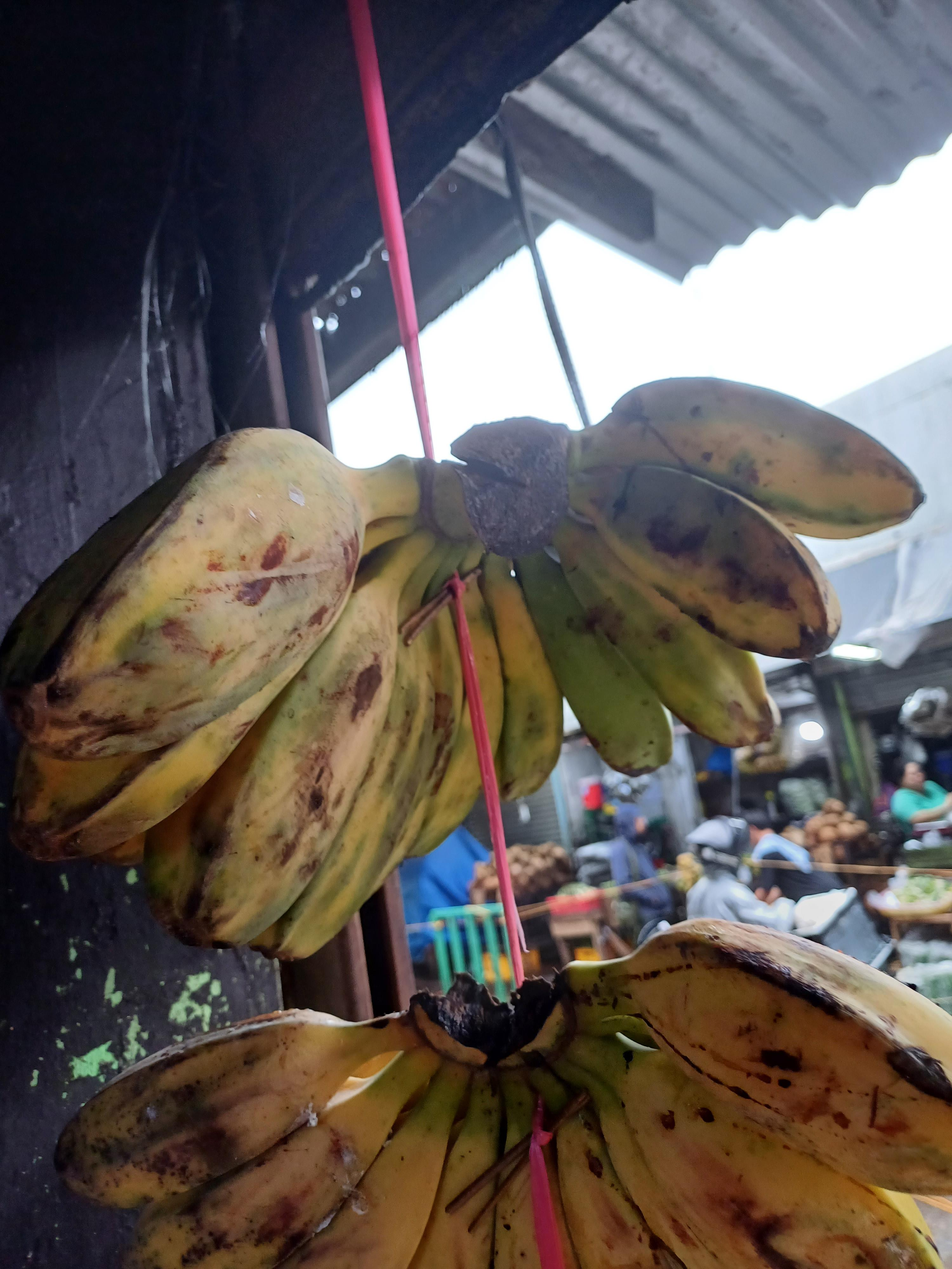ripe: (60, 920, 952, 1269)
underripe: (0, 377, 923, 957)
